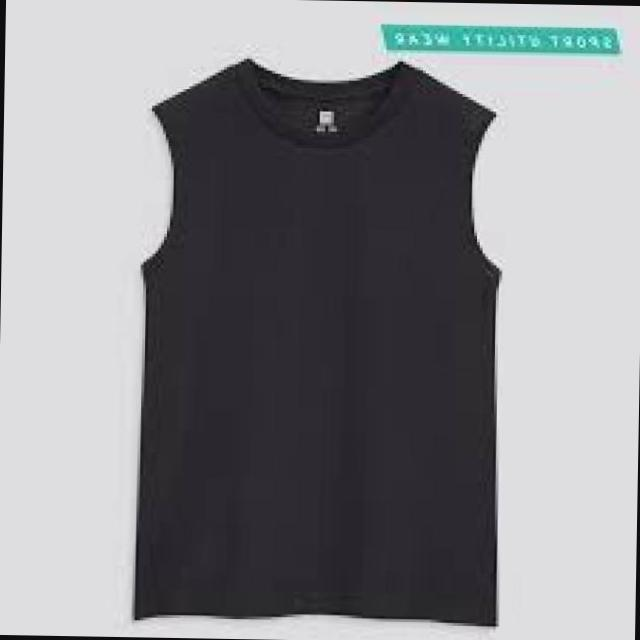no_vest: (132, 55, 506, 626)
